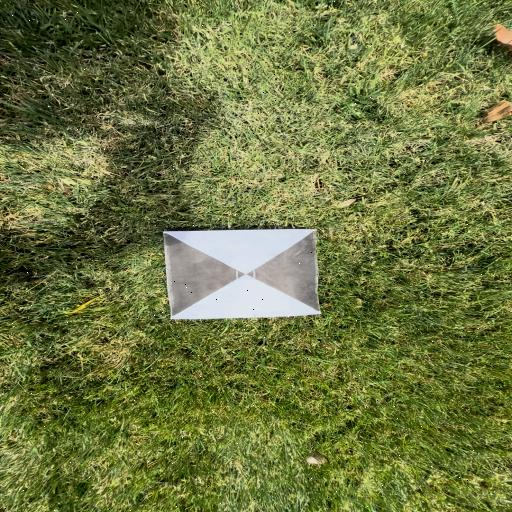target: (165, 230, 322, 318)
